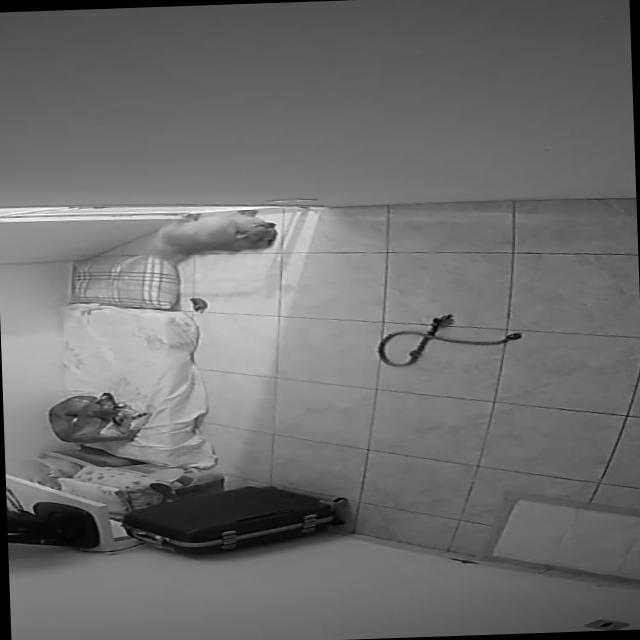laying down: (143, 206, 281, 266), (41, 388, 155, 449)
